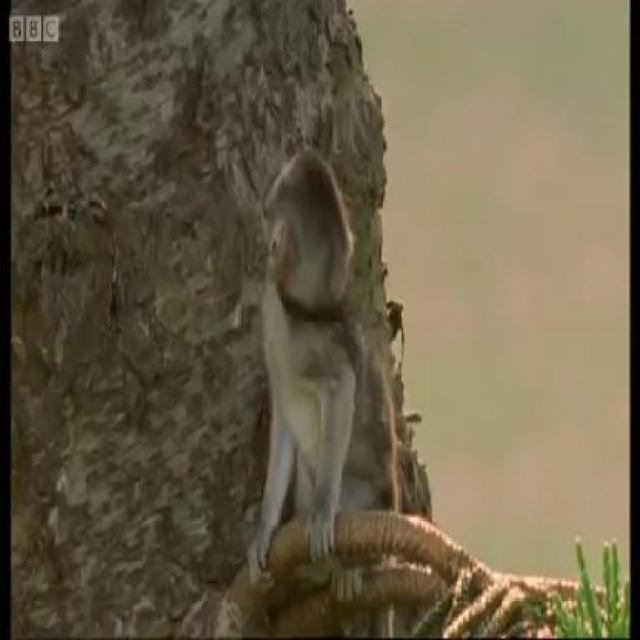Monkey: (245, 144, 403, 582)
